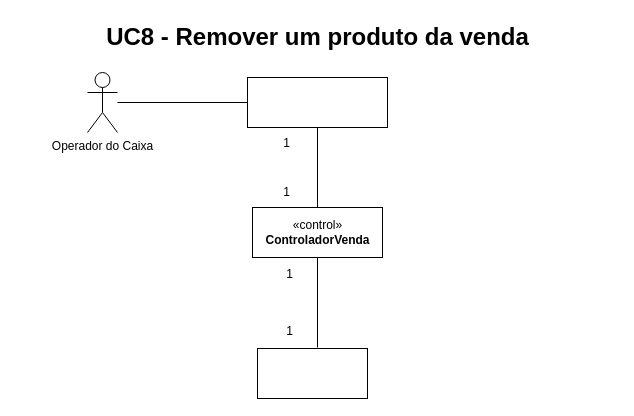
The diagram is 634 pixels wide and 416 high, and some of its shapes have lost their labels. Each missing label, with the centre of its shape:
"«boundary» RetirarProdutoDaVenda" goes at pixel 317 102.
"«entity» Produto" goes at pixel 312 373.
